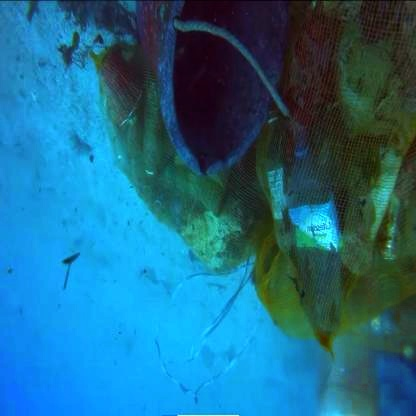plastic: (284, 129, 346, 346), (288, 200, 348, 238)
